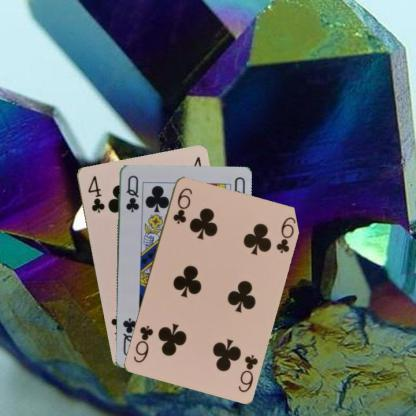4c: (85, 173, 106, 214)
6c: (235, 352, 260, 394), (170, 185, 193, 225)
Qc: (122, 173, 140, 213)
